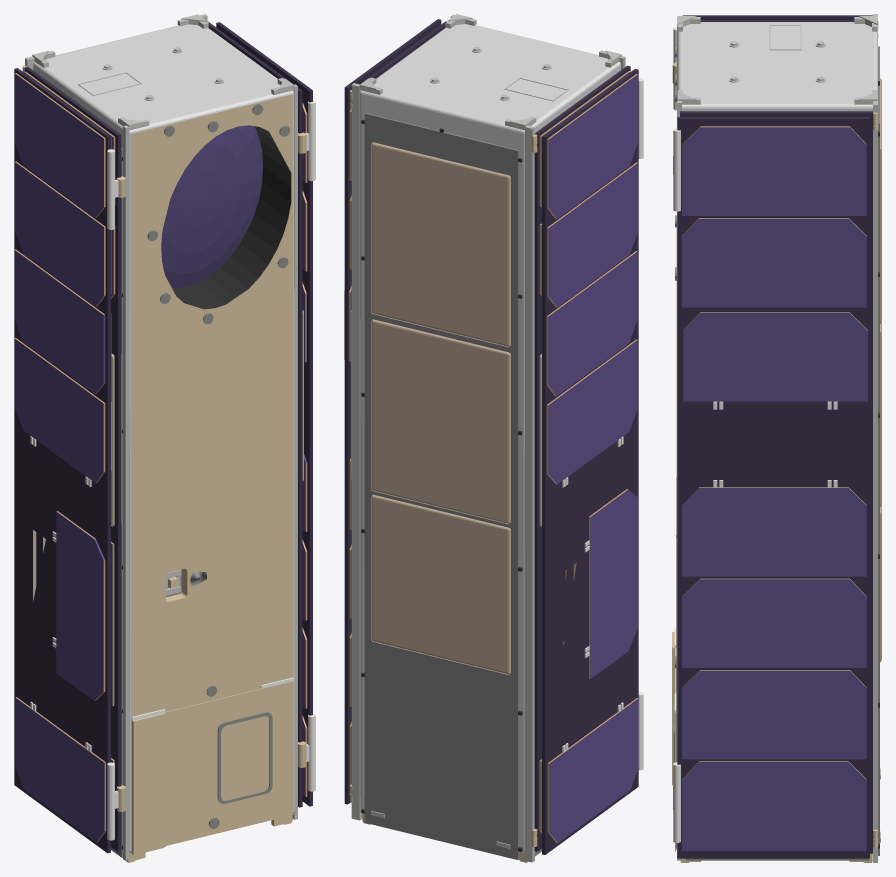
The model's file is cubesat-mirata.glb.
The picture shows the model from 3 angles, left to right: view 1: azimuth 30°, elevation 25°; view 2: azimuth 150°, elevation 25°; view 3: azimuth 270°, elevation 25°; orthographic projection. The views are drawn at different scales.
Visible parts, largest first — view 1: Layer_0; view 2: Layer_0; view 3: Layer_0.
Boxes of the visible parts, x1,y1,x2,y2 form: Layer_0: (14, 14, 315, 862); Layer_0: (344, 14, 643, 862); Layer_0: (672, 14, 881, 862).
Bounding box in the file's own units: 2.46 × 8.4 × 2.09.
Materials: 2 (2 with a texture image).
